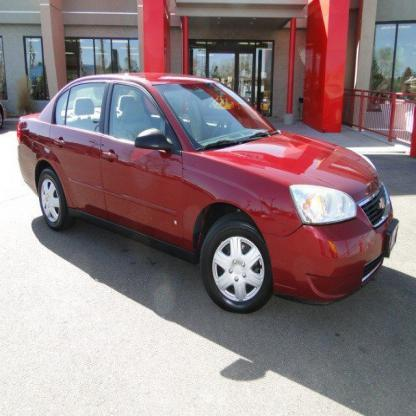Vehicle: (17, 70, 400, 316)
